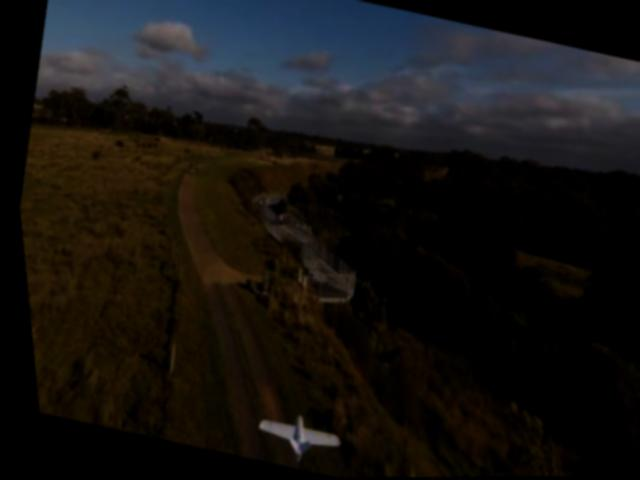uav: (236, 405, 342, 471)
